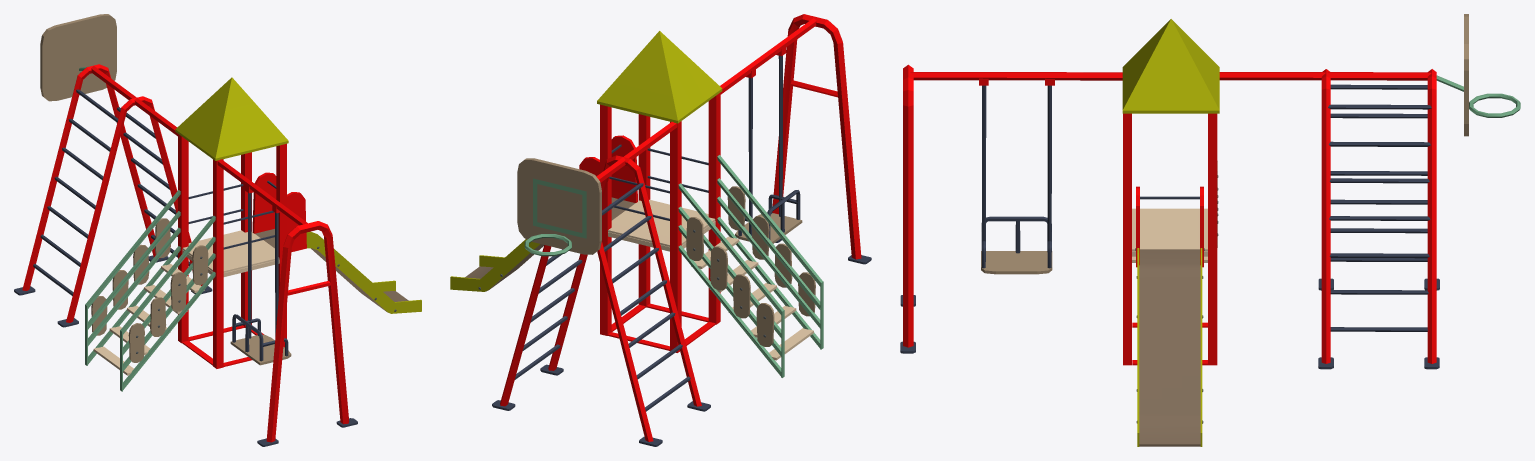
File: SM_Playground_02.fbx
3 renders of one model, left to right at view 1: azimuth 30°, elevation 25°; view 2: azimuth 150°, elevation 25°; view 3: azimuth 270°, elevation 25°, orthographic. The views are drawn at different scales.
Parts seen in each view (by area): view 1: SM_Playground_02; view 2: SM_Playground_02; view 3: SM_Playground_02.
Boxes of the visible parts, bbox=[...] form: SM_Playground_02: bbox=[14, 14, 421, 446]; SM_Playground_02: bbox=[450, 14, 871, 446]; SM_Playground_02: bbox=[900, 14, 1520, 446].
Size of the model in its own units: 384 by 324 by 558.
1 material, 1 textured.
